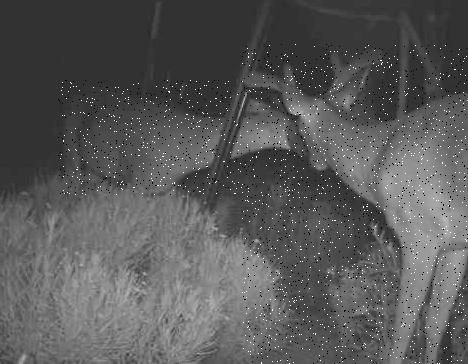Deer: (242, 44, 468, 364), (58, 80, 292, 195)
